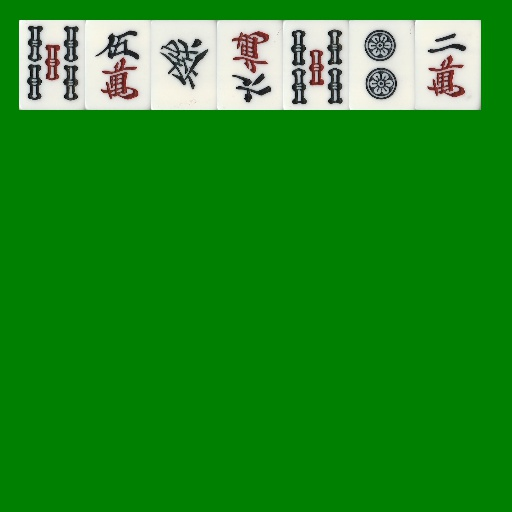2m: (415, 20, 481, 110)
2p: (349, 20, 415, 110)
5m: (85, 20, 151, 110)
5s: (19, 20, 85, 110), (283, 20, 349, 110)
6m: (217, 20, 283, 110)
hatsu: (151, 20, 217, 110)
